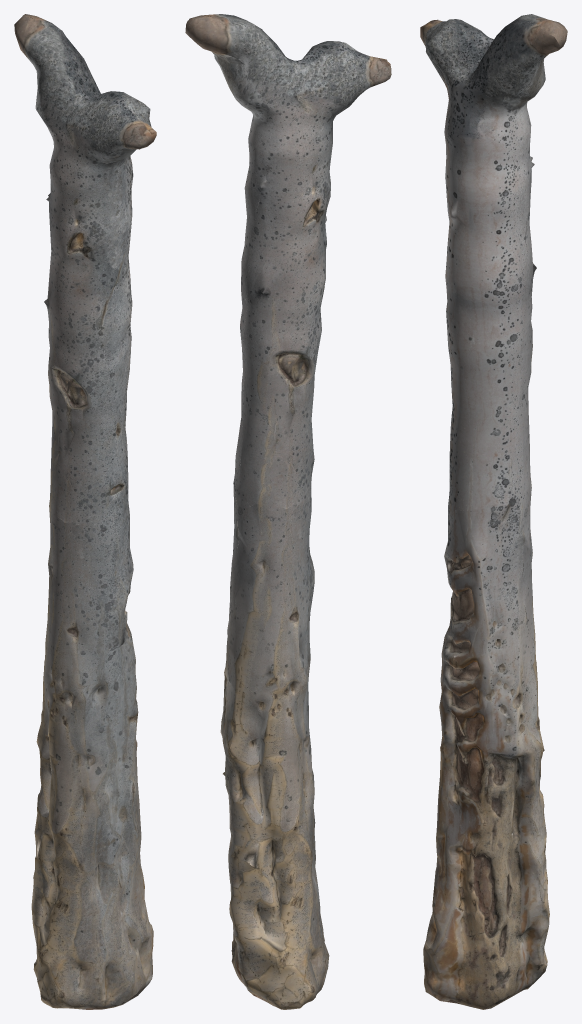
The model's file is dead_quiver_trunk.glb.
3 views of the same model, side by side, from view 1: azimuth 90°, elevation 25°; view 2: azimuth 150°, elevation 25°; view 3: azimuth 270°, elevation 25° (orthographic). The views are drawn at different scales.
Visible parts, largest first — view 1: dead_quiver_trunk_LOD0; view 2: dead_quiver_trunk_LOD0; view 3: dead_quiver_trunk_LOD0.
Part boxes in pixels (left/top/right/bottom): dead_quiver_trunk_LOD0: left=14, top=14, right=156, bottom=1009; dead_quiver_trunk_LOD0: left=185, top=14, right=391, bottom=1009; dead_quiver_trunk_LOD0: left=420, top=14, right=567, bottom=1009.
Size of the model in its own units: 0.3064 by 1.99 by 0.2675.
1 material, 1 textured.
